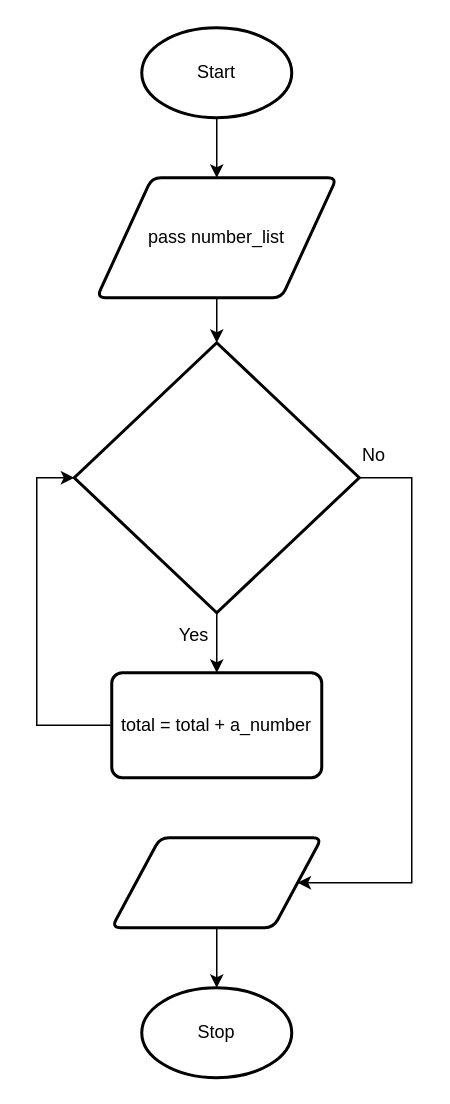
This 450x1104 diagram has some shape labels left out. The shapes that lost their labels are listed below. From the top down, each one's centre as x and y in pixels, then its label:
At (216,477): "for a_number in number_list".
At (216,882): "return total".
